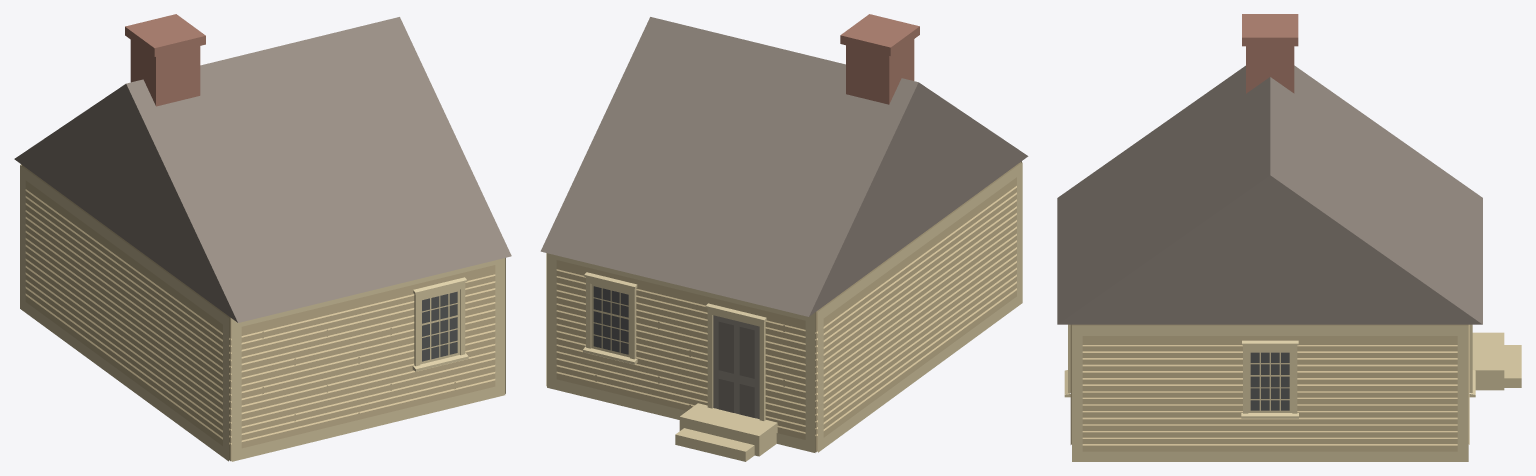
The model's file is recon_1835_blk_washington_lasalle_d3_06__inferred_1835.glb.
3 renders of one model, left to right at view 1: azimuth 30°, elevation 25°; view 2: azimuth 150°, elevation 25°; view 3: azimuth 270°, elevation 25°, orthographic. The views are drawn at different scales.
Visible parts, largest first — view 1: recon_1835_blk_washington_lasalle_d3_06__inferred_1835; view 2: recon_1835_blk_washington_lasalle_d3_06__inferred_1835; view 3: recon_1835_blk_washington_lasalle_d3_06__inferred_1835.
Boxes of the visible parts, x1,y1,x2,y2 form: recon_1835_blk_washington_lasalle_d3_06__inferred_1835: (14, 14, 511, 461); recon_1835_blk_washington_lasalle_d3_06__inferred_1835: (540, 14, 1028, 461); recon_1835_blk_washington_lasalle_d3_06__inferred_1835: (1057, 14, 1521, 461).
Size of the model in its own units: 5.37 by 6.27 by 8.07.
